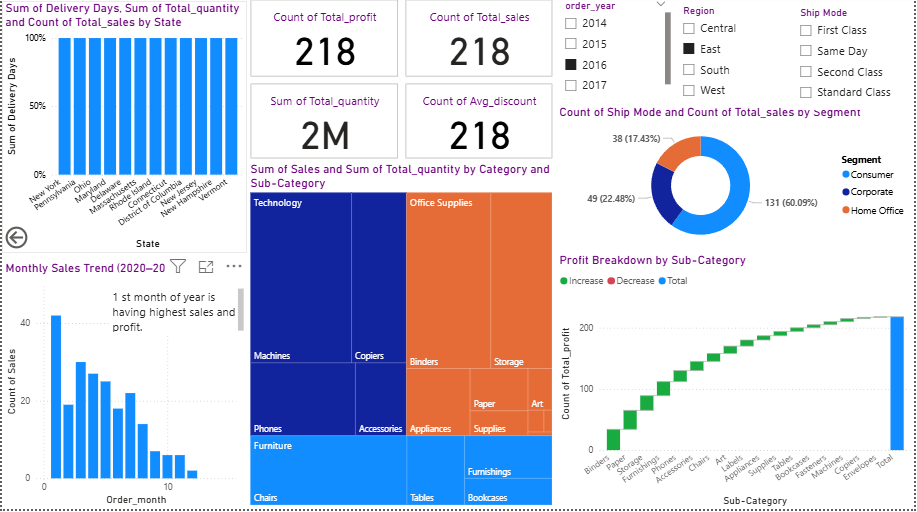

This screenshot's page, from the dashboard's own definition file:
{"tool":"powerbi","page":{"name":"Page 1","canvas":[1280,720],"ordinal":0},"visuals":[{"type":"lineClusteredColumnComboChart","title":"Monthly Sales Trend (2020–2023)","fields":{"Category":["Sample - Superstore.Order_month"],"Y":["CountNonNull(Sample - Superstore.Sales)"]},"box":[0,371.5,334.1,348.5],"z":0},{"type":"slicer","fields":{"Values":["Sample - Superstore.order_year"]},"box":[777.6,0,165.6,141.1],"z":1000},{"type":"slicer","fields":{"Values":["Sample - Superstore.Region"]},"box":[943.2,7.2,164.2,152.6],"z":2000},{"type":"cardVisual","fields":{"Data":["CountNonNull(Sample - Superstore.Total_profit)"]},"box":[344.2,0,217.4,118.1],"z":3000},{"type":"cardVisual","fields":{"Data":["Sum(Sample - Superstore.Total_quantity)"]},"box":[344.2,118.1,217.4,115.2],"z":4000},{"type":"cardVisual","fields":{"Data":["CountNonNull(Sample - Superstore.Total_sales)"]},"box":[561.6,0,216,118.1],"z":5000},{"type":"cardVisual","fields":{"Data":["CountNonNull(Sample - Superstore.Avg_discount)"]},"box":[561.6,118.1,216,115.2],"z":6000},{"type":"treemap","fields":{"Group":["Sample - Superstore.Category"],"Values":["Sum(Sample - Superstore.Sales)"],"Details":["Sample - Superstore.Sub-Category"]},"box":[344.2,233.3,433.4,486.7],"z":7000},{"type":"donutChart","fields":{"Y":["CountNonNull(Sample - Superstore.Ship Mode)"],"Series":["Sample - Superstore.Segment"]},"box":[777.6,152.6,502.6,207.4],"z":8000},{"type":"hundredPercentStackedColumnChart","fields":{"Y":["Sum(Sample - Superstore.Delivery Days)"],"Category":["Sample - Superstore.State"]},"box":[0,7.2,344.2,352.8],"z":9000},{"type":"waterfallChart","title":"Profit Breakdown by Sub-Category","fields":{"Category":["Sample - Superstore.Sub-Category"],"Y":["CountNonNull(Sample - Superstore.Total_profit)"]},"box":[777.6,360,502.6,360],"z":10000},{"type":"slicer","fields":{"Values":["Sample - Superstore.Ship Mode"]},"box":[1107.4,10.1,172.8,149.8],"z":11000},{"type":"textbox","box":[149.8,406.1,194.4,70.6],"z":12000},{"type":"qnaVisual","box":[0,393.1,13,13],"z":13000},{"type":"textbox","box":[30.9,175.4,35.1,47.7],"z":13001},{"type":"actionButton","box":[0,318.6,49.1,40.7],"z":13002}]}

Visuals, with their boxes in screenshot pixels (x1, y1, x2, y2), scaled from the page's 1280x720 canvas onto the 917x512 screenshot:
"Monthly Sales Trend (2020–2023)" lineClusteredColumnComboChart: <region>0, 264, 239, 511</region>
slicer - Sample - Superstore.order_year: <region>557, 0, 676, 100</region>
slicer - Sample - Superstore.Region: <region>676, 5, 793, 114</region>
cardVisual - CountNonNull(Sample - Superstore.Total_profit): <region>247, 0, 402, 84</region>
cardVisual - Sum(Sample - Superstore.Total_quantity): <region>247, 84, 402, 166</region>
cardVisual - CountNonNull(Sample - Superstore.Total_sales): <region>402, 0, 557, 84</region>
cardVisual - CountNonNull(Sample - Superstore.Avg_discount): <region>402, 84, 557, 166</region>
treemap - Sample - Superstore.Category x Sum(Sample - Superstore.Sales): <region>247, 166, 557, 511</region>
donutChart - CountNonNull(Sample - Superstore.Ship Mode) x Sample - Superstore.Segment: <region>557, 109, 916, 256</region>
hundredPercentStackedColumnChart - Sum(Sample - Superstore.Delivery Days) x Sample - Superstore.State: <region>0, 5, 247, 256</region>
"Profit Breakdown by Sub-Category" waterfallChart: <region>557, 256, 916, 511</region>
slicer - Sample - Superstore.Ship Mode: <region>793, 7, 916, 114</region>
textbox: <region>107, 289, 247, 339</region>
qnaVisual: <region>0, 280, 9, 289</region>
textbox: <region>22, 125, 47, 159</region>
actionButton: <region>0, 227, 35, 256</region>
